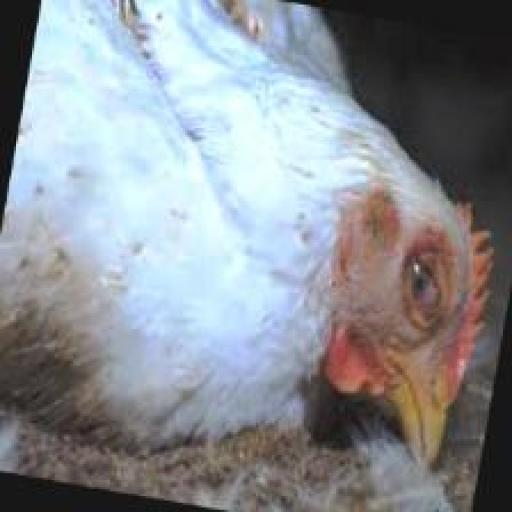disease: (350, 200, 474, 362)
